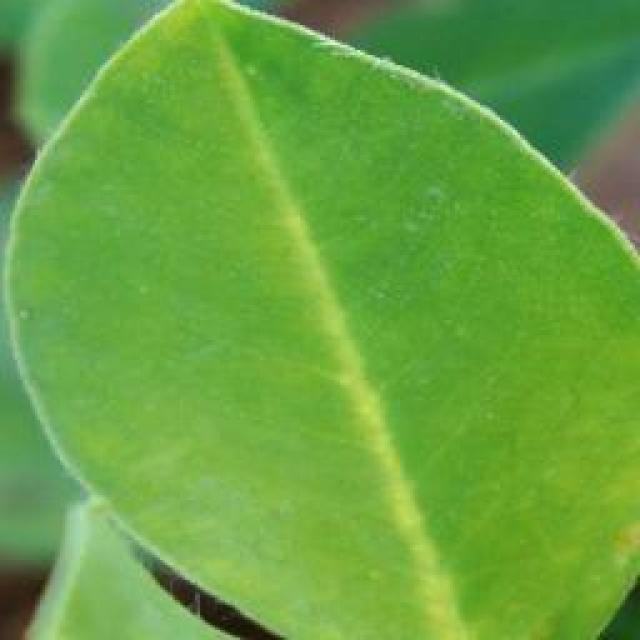Yellow_and_black_sigatoka: (6, 6, 640, 640)
